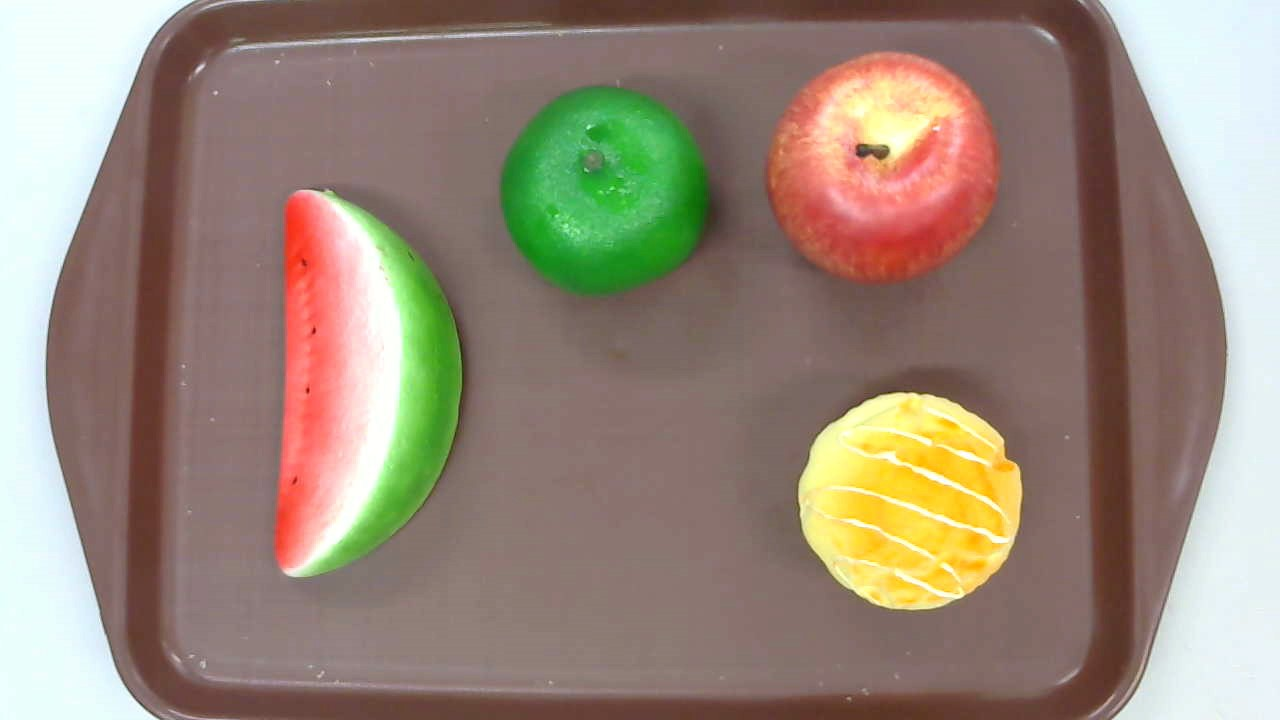cupcake: (797, 391, 1022, 610)
green orange: (500, 85, 710, 298)
red apple: (764, 51, 1001, 287)
water melon: (274, 188, 461, 575)
